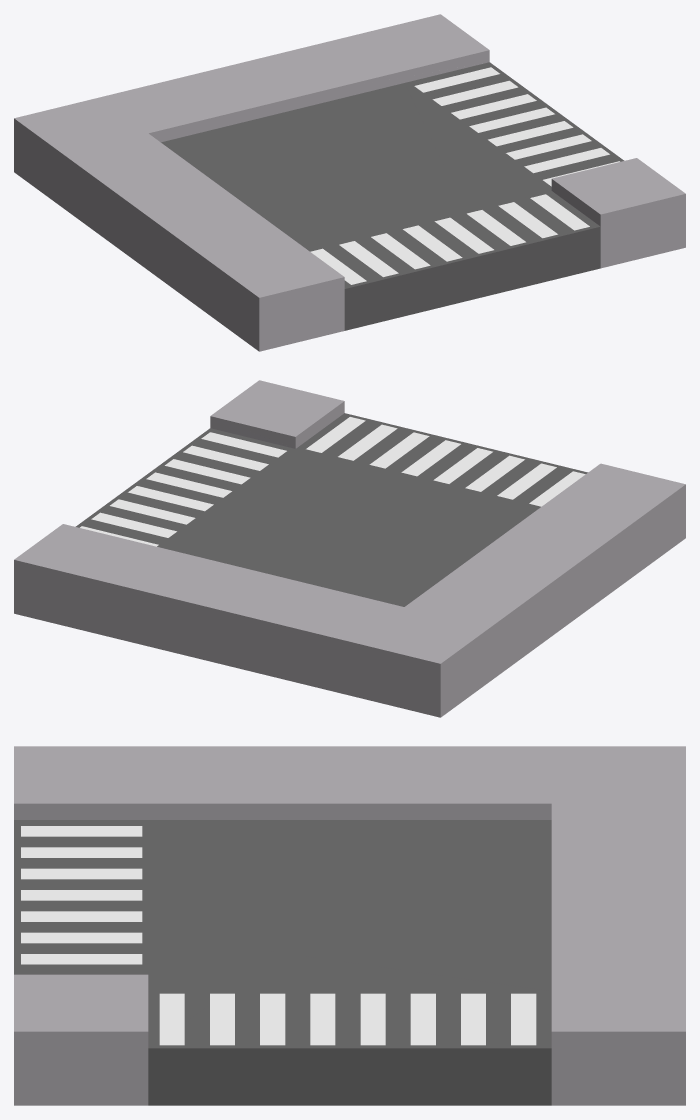
3 views of the same model, one above another, from view 1: azimuth 30°, elevation 25°; view 2: azimuth 150°, elevation 25°; view 3: azimuth 270°, elevation 25° (orthographic). The views are drawn at different scales.
Parts seen in each view (by area): view 1: Road 3; view 2: Road 3; view 3: Road 3.
Part boxes in pixels (box(x1,y1,x2,y2)): Road 3: box(14, 14, 685, 351); Road 3: box(14, 380, 685, 717); Road 3: box(14, 746, 685, 1105).
Bounding box in the file's own units: 2.66 × 0.3215 × 2.65.
1 material, 1 textured.
